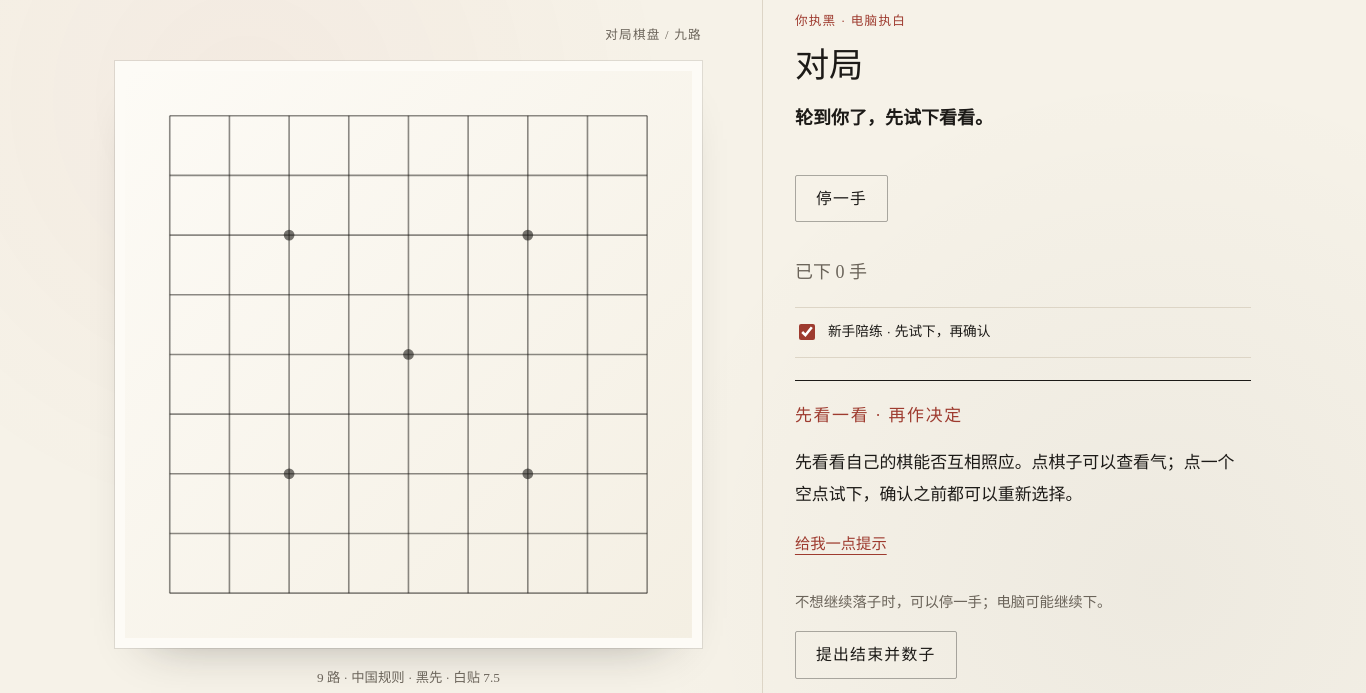
it: 陪练交互 › 停一手需要确认，进入数子后仍可重试
The width and height of the screenshot is (1366, 693).
Click the button "停一手" at (842, 198), box [795,175,888,222]
Wait 350 ms
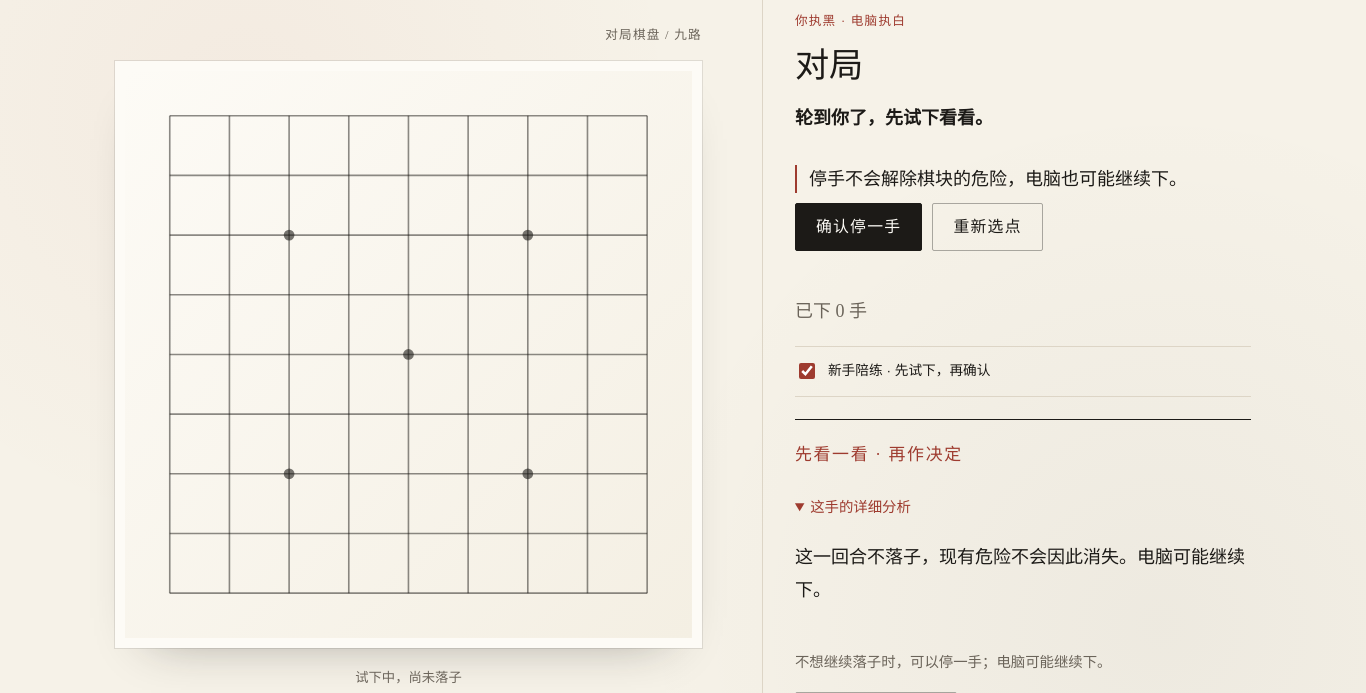
Click the button "确认停一手" at (859, 227), box [795,203,922,251]
Wait 350 ms
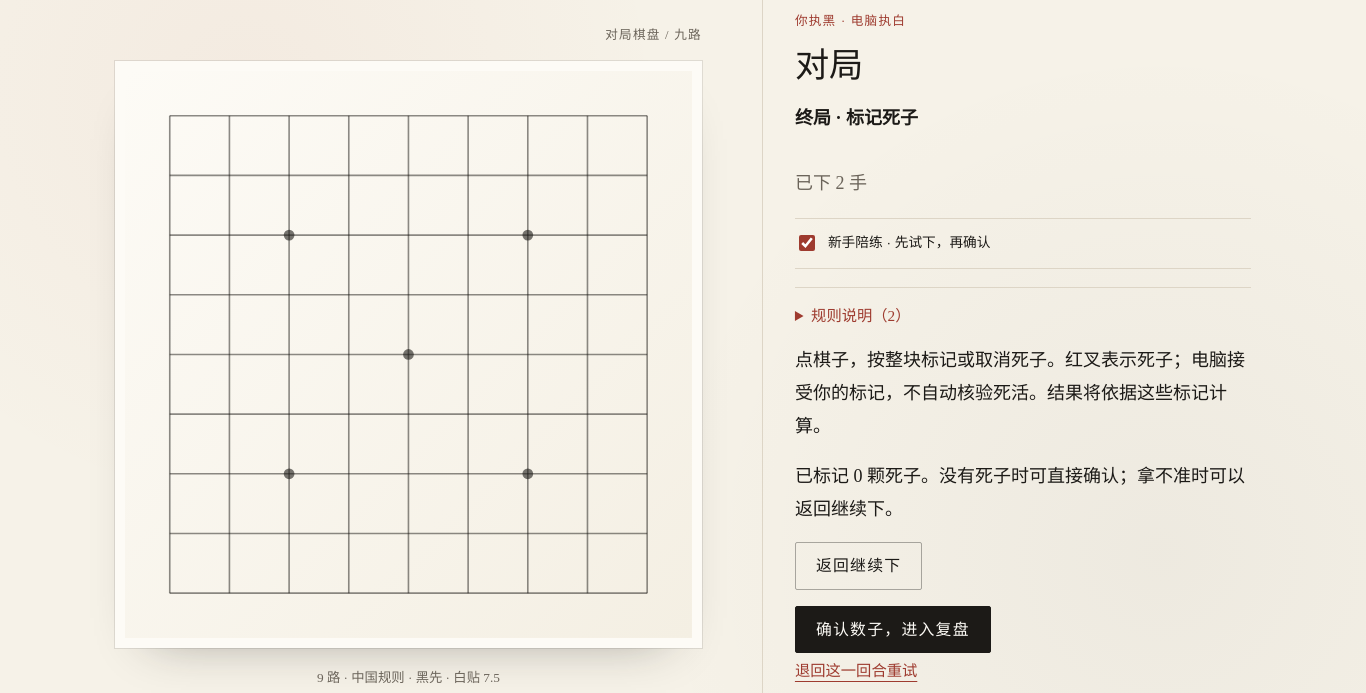
Expected: the text "终局 · 标记死子" is shown, [795,108,918,128]
Click the button "退回这一回合重试" at (856, 671), box [795,653,917,690]
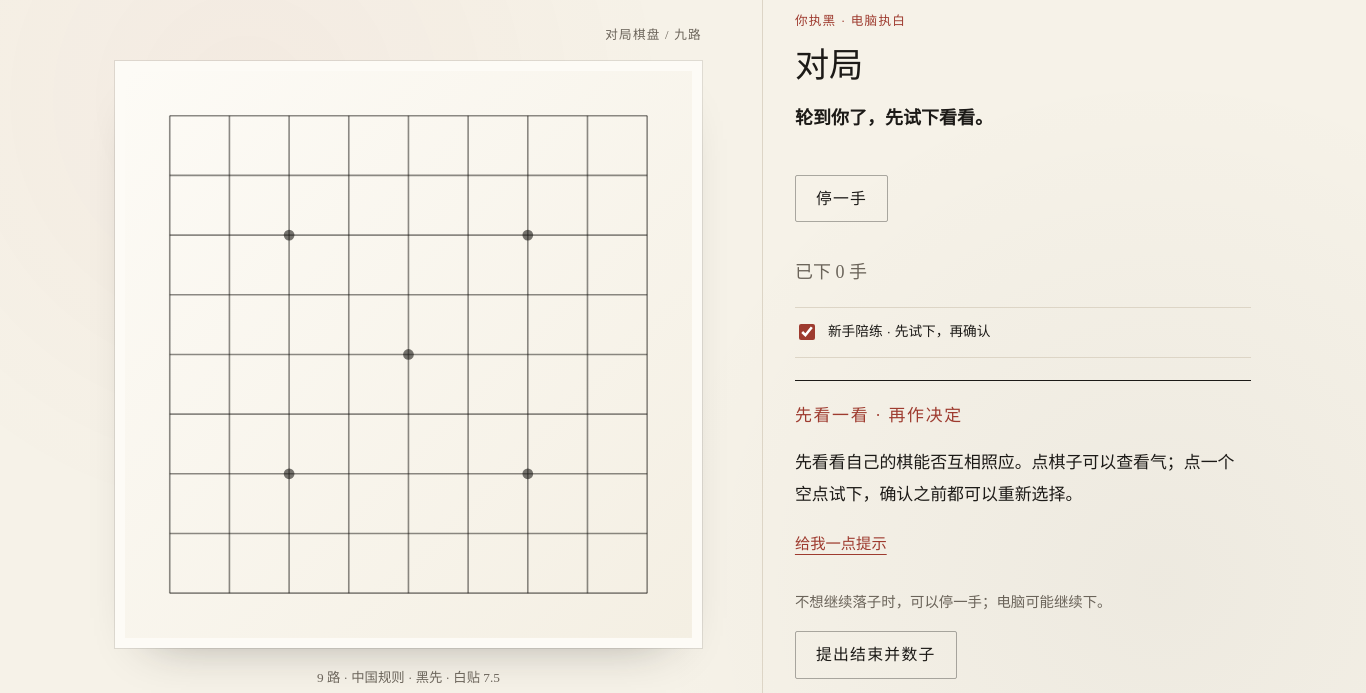
Expected: the text "已下 0 手" is shown, [795,262,867,282]
